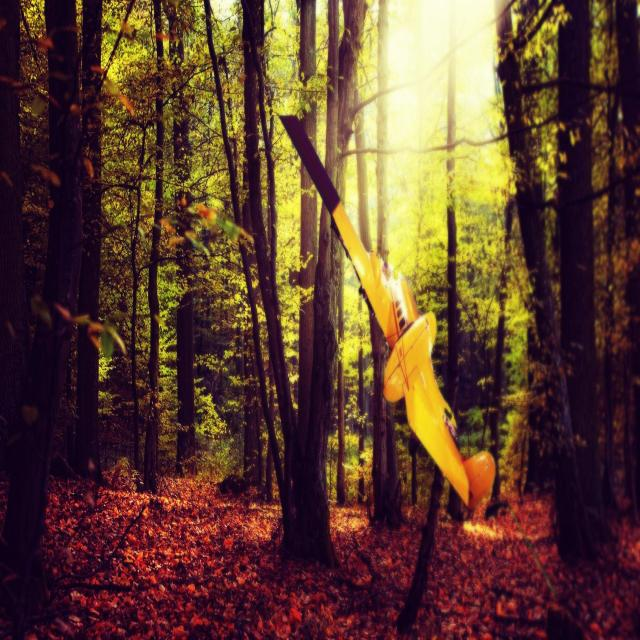airplane: (277, 112, 496, 511)
